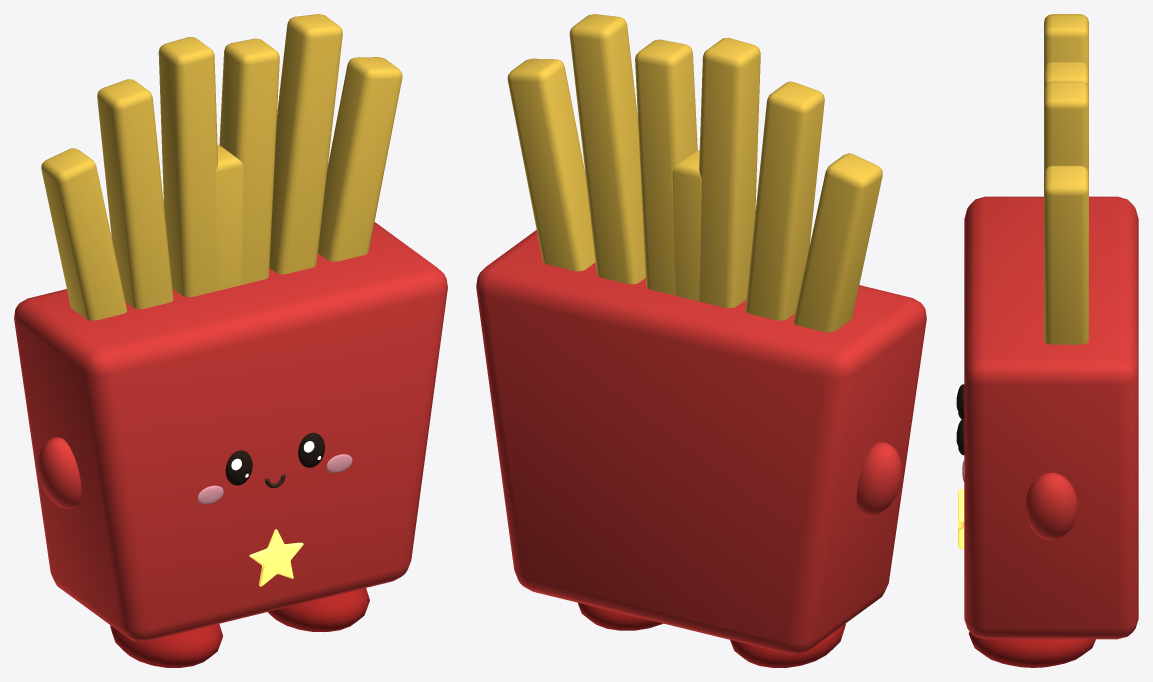
The model's file is fries.glb.
3 renders of one model, left to right at view 1: azimuth 30°, elevation 25°; view 2: azimuth 150°, elevation 25°; view 3: azimuth 270°, elevation 25°, orthographic. The views are drawn at different scales.
Parts seen in each view (by area): view 1: fries; view 2: fries; view 3: fries.
Part boxes in pixels (x1,y1,x2,y2): fries: (14,14,447,667); fries: (476,14,926,667); fries: (955,14,1138,667).
Size of the model in its own units: 0.0723 by 0.1077 by 0.0305.
